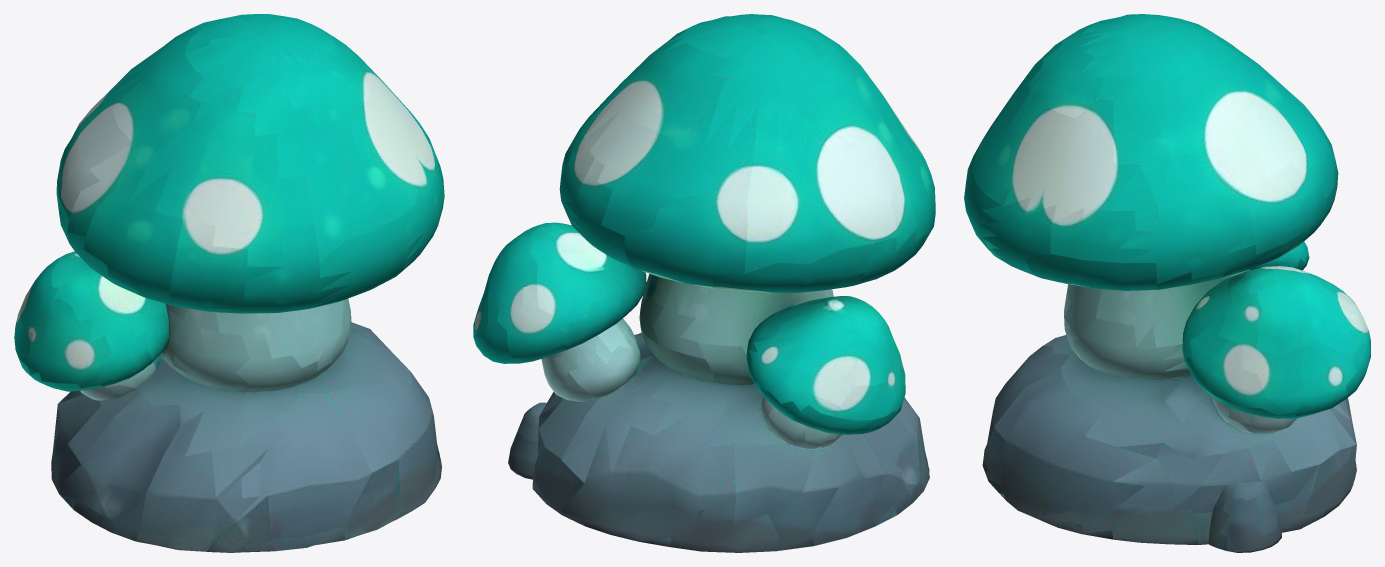
The model's file is la_seta_cueva.glb.
3 renders of one model, left to right at view 1: azimuth 30°, elevation 25°; view 2: azimuth 150°, elevation 25°; view 3: azimuth 270°, elevation 25°, orthographic. The views are drawn at different scales.
Size of the model in its own units: 0.9121 by 1 by 0.8535.
1 material, 1 textured.
